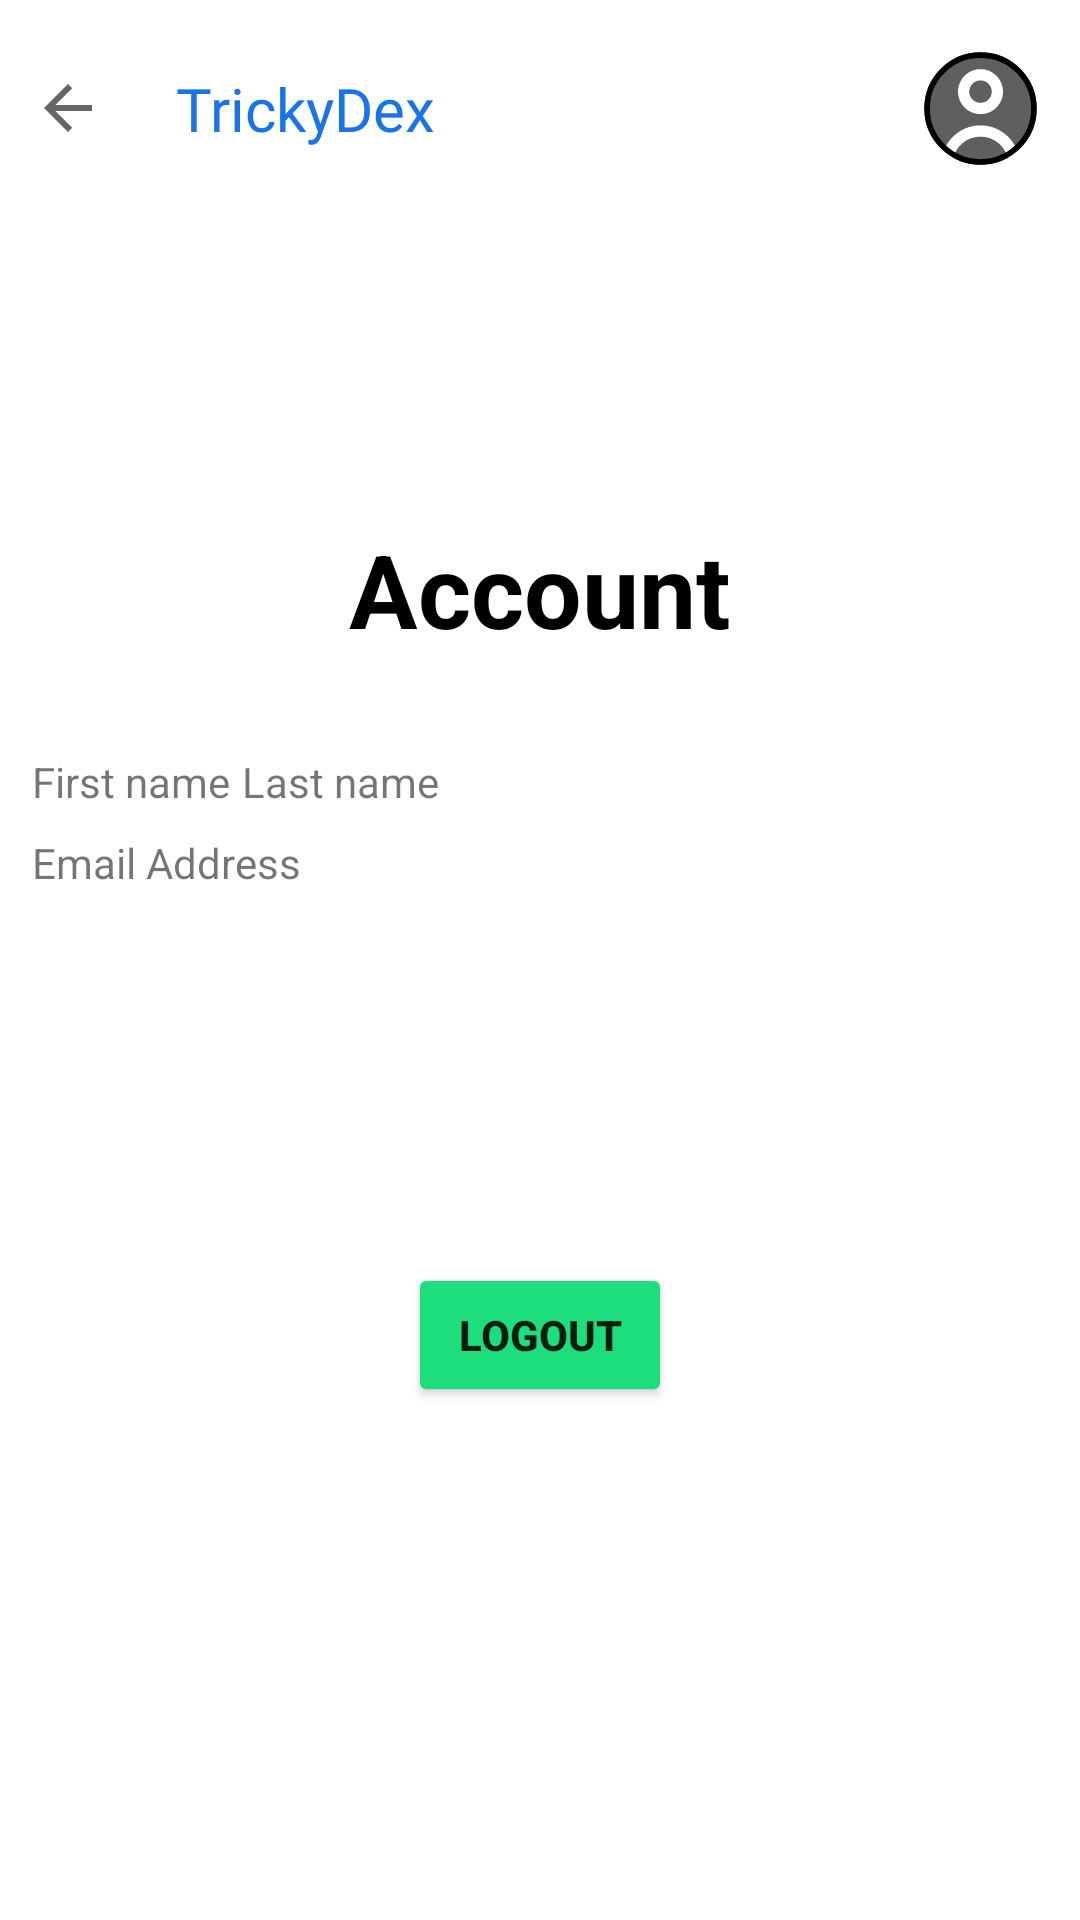

Named icons in this screenshot (1080×1920) and their centers, [x,y]:
back button: [68,108]
user empty: [980,108]
